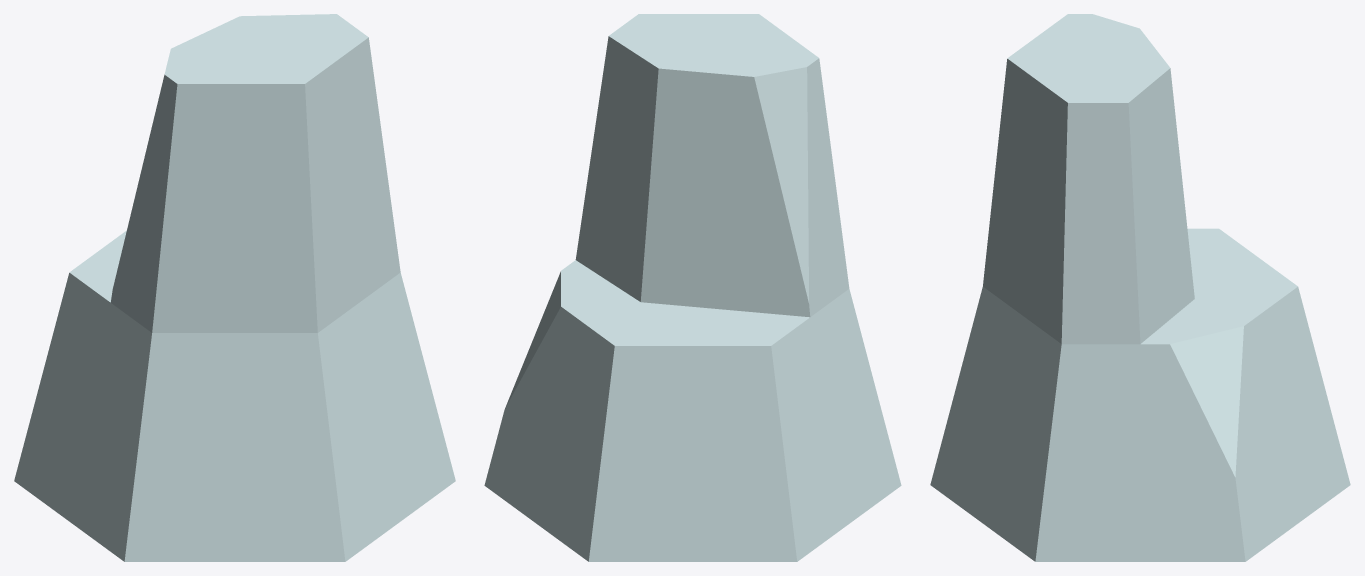
Rendered from stone_tallF.glb.
3 views of the same model, side by side, from view 1: azimuth 30°, elevation 25°; view 2: azimuth 150°, elevation 25°; view 3: azimuth 270°, elevation 25° (orthographic). The views are drawn at different scales.
Visible parts, largest first — view 1: stone_tallF; view 2: stone_tallF; view 3: stone_tallF.
Boxes of the visible parts, left/top/right/bottom form: stone_tallF: left=14, top=14, right=455, bottom=561; stone_tallF: left=484, top=14, right=901, bottom=561; stone_tallF: left=930, top=14, right=1350, bottom=561.
Bounding box in the file's own units: 0.4437 × 0.5737 × 0.5123.
Materials: 1 (1 with a texture image).
